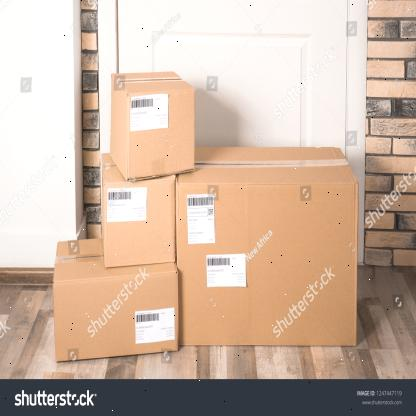box: (176, 178, 358, 349), (54, 269, 177, 364), (104, 173, 175, 268), (127, 86, 195, 182)
